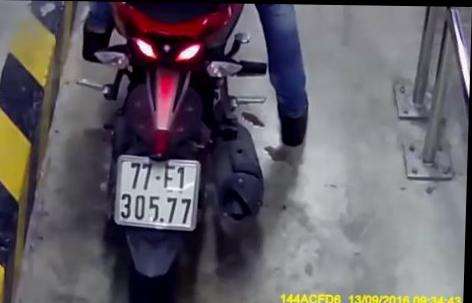License_Plate: (110, 152, 204, 233)
